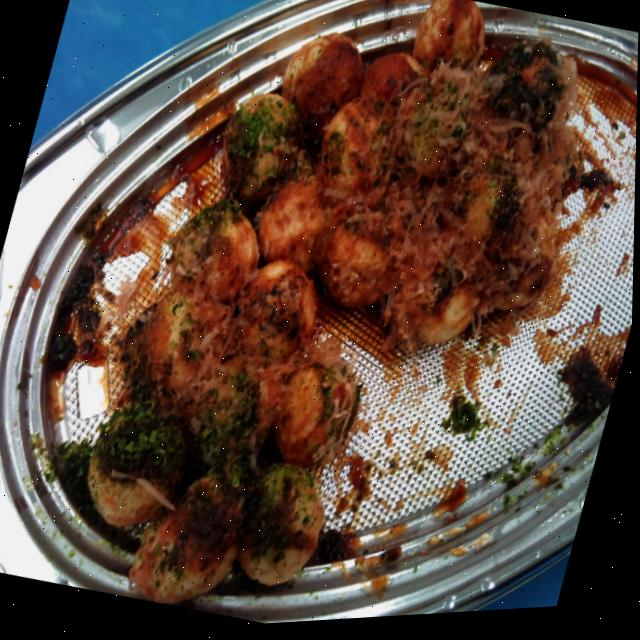炸货点心: (6, 0, 640, 639)
